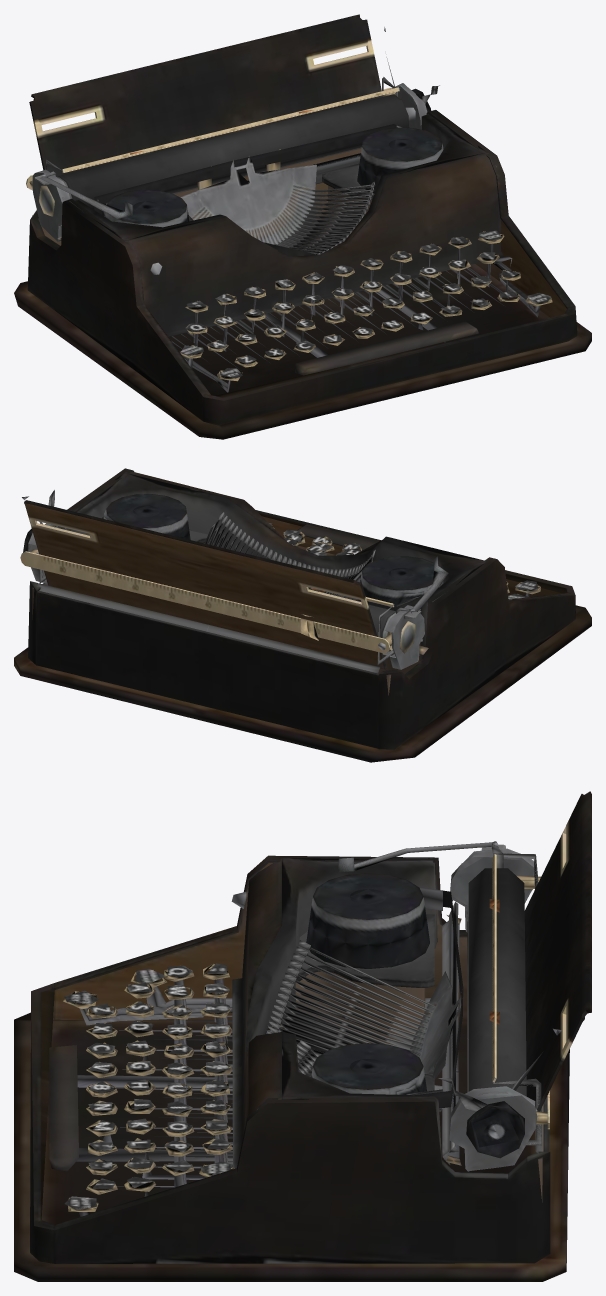
File: 1930s_style_typewriter_w_o_branding.glb
3 views of the same model, one above another, from view 1: azimuth 30°, elevation 25°; view 2: azimuth 150°, elevation 25°; view 3: azimuth 270°, elevation 25° (orthographic). The views are drawn at different scales.
Parts seen in each view (by area): view 1: Object_3; view 2: Object_3; view 3: Object_3.
Boxes of the visible parts, left/top/right/bottom form: Object_3: left=14, top=14, right=591, bottom=439; Object_3: left=14, top=468, right=591, bottom=762; Object_3: left=14, top=791, right=591, bottom=1281.
Bounding box in the file's own units: 0.3761 × 0.169 × 0.35.
1 material, 1 textured.
